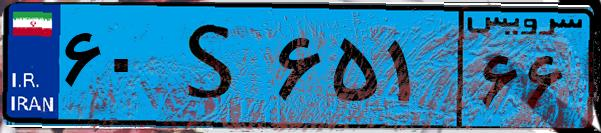0: (110, 28, 158, 98)
1: (385, 28, 445, 110)
5: (330, 28, 385, 110)
6: (270, 28, 330, 110), (57, 26, 110, 100), (475, 38, 525, 113), (525, 38, 570, 115)
S: (158, 12, 270, 120)
